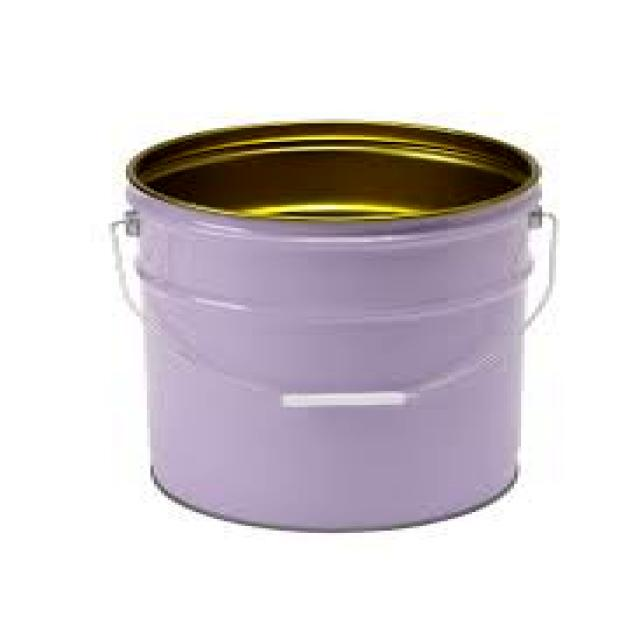Metal: (114, 113, 546, 535)
